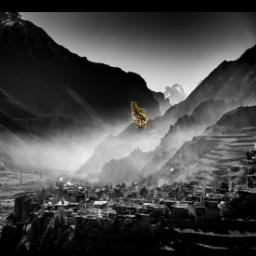Sparrow: (131, 102, 147, 129)
